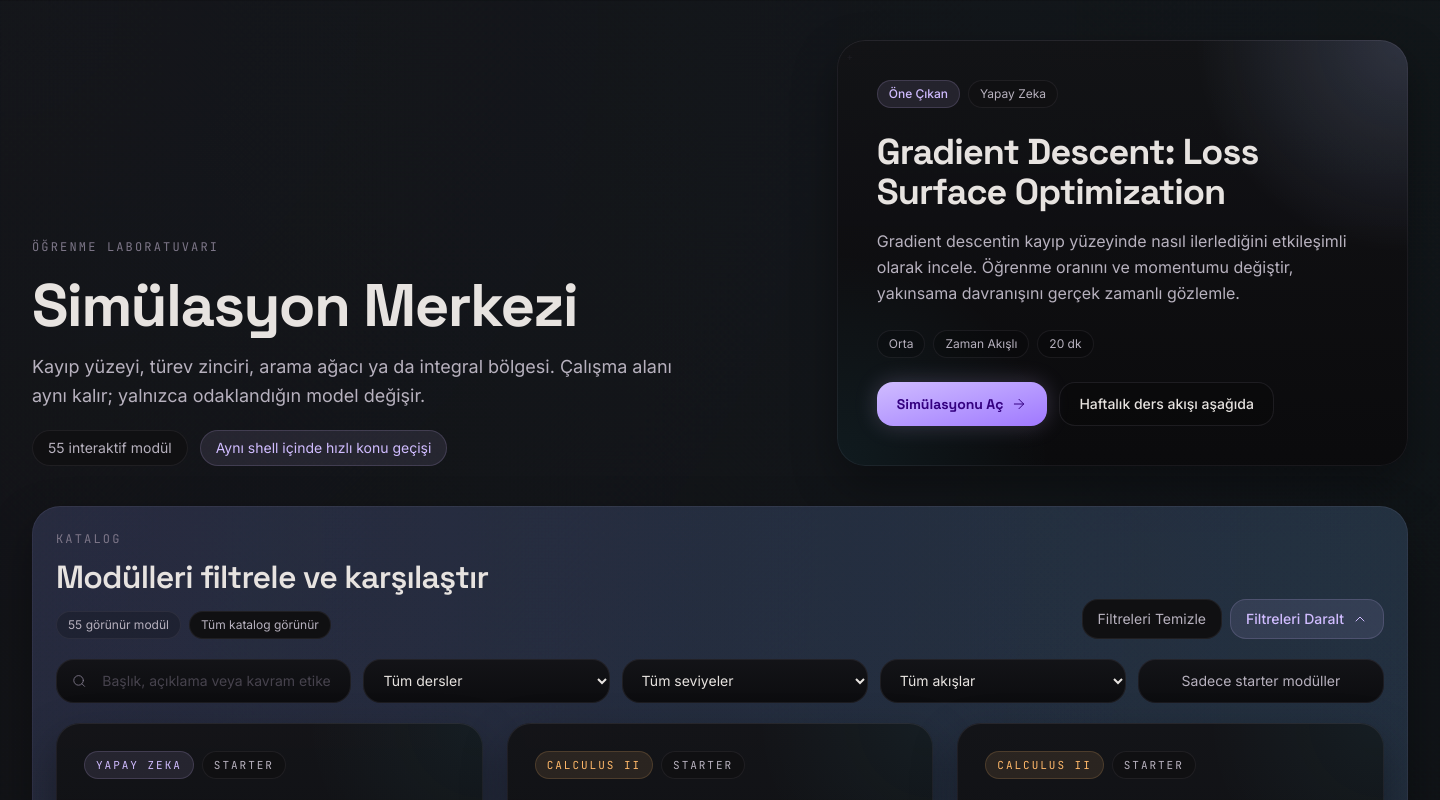
Test: Dashboard › shows an empty state for course filters without modules
Select "Veri Tabanı Sistemleri" in the dropdown named "Derse göre filtrele": {"x": 486, "y": 681} [363,659,610,703]
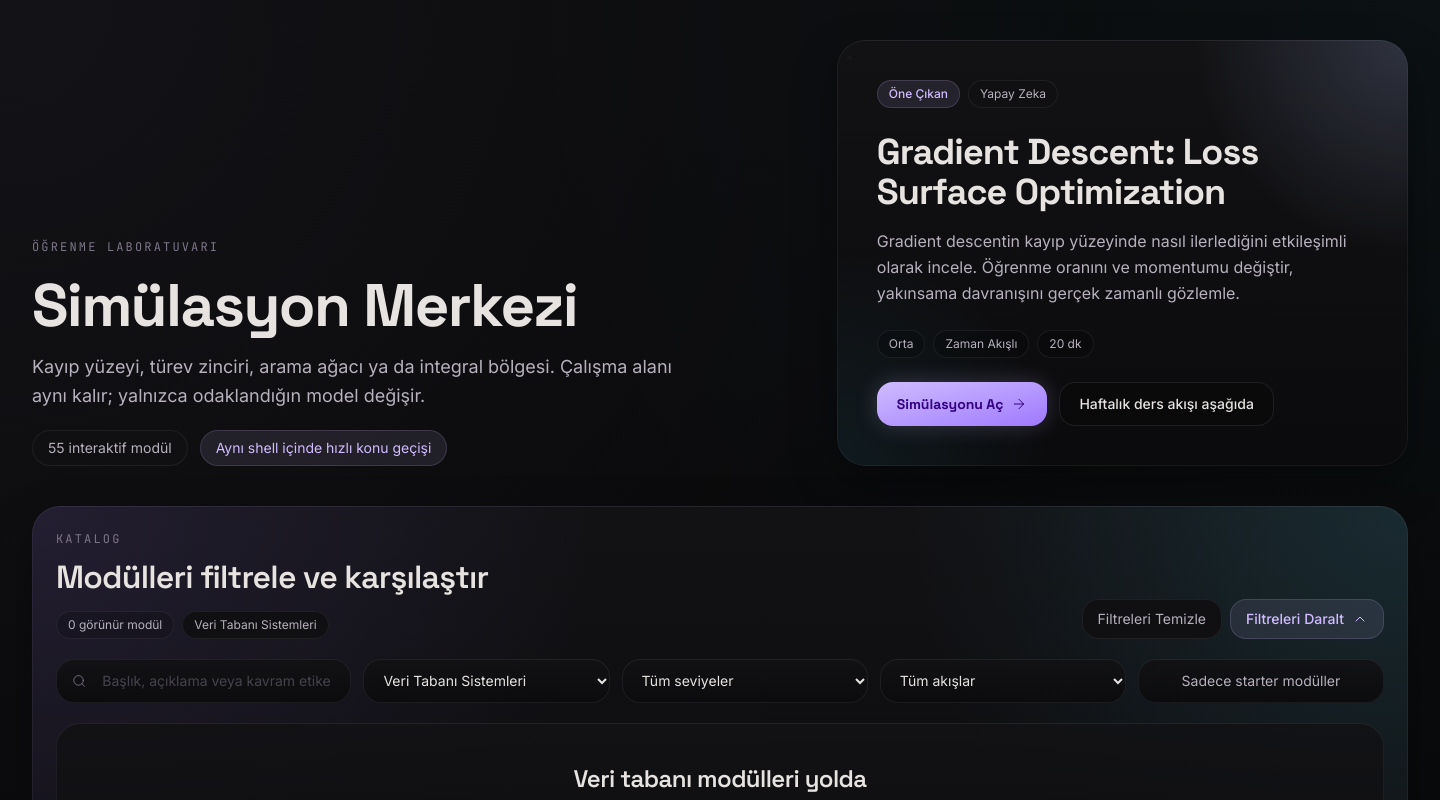
Check: the heading "Veri tabanı modülleri yolda" is shown, box [573,763,867,794]
